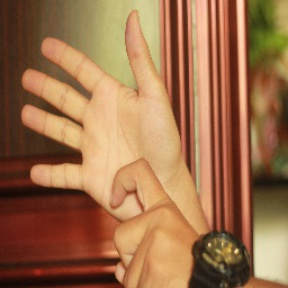R: (17, 8, 193, 284)
